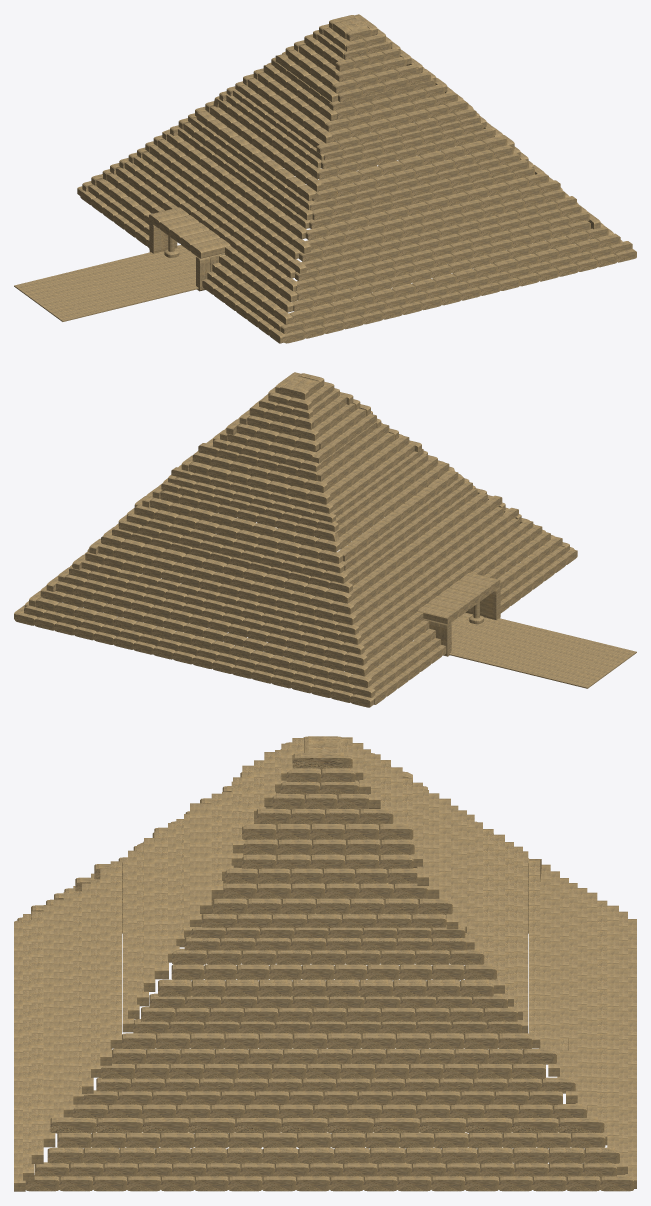
3 views of the same model, one above another, from view 1: azimuth 30°, elevation 25°; view 2: azimuth 150°, elevation 25°; view 3: azimuth 270°, elevation 25° (orthographic). The views are drawn at different scales.
Visible parts, largest first — view 1: Cube.015; view 2: Cube.015; view 3: Cube.015.
Boxes of the visible parts, <box> form: Cube.015: <box>14,14,636,343</box>; Cube.015: <box>14,372,636,707</box>; Cube.015: <box>14,736,636,1191</box>.
Size of the model in its own units: 35329 by 14257 by 25401.
Materials: 2 (2 with a texture image).
